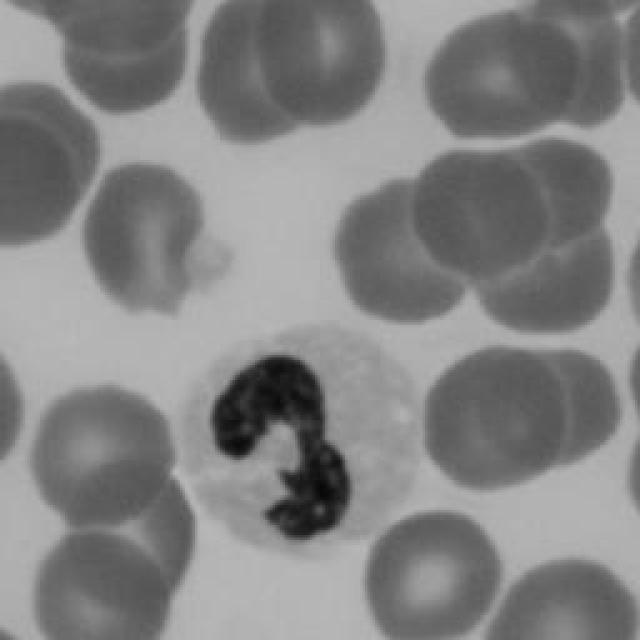RBC: (422, 345, 568, 495), (32, 380, 176, 532), (331, 175, 474, 323), (421, 10, 579, 142), (195, 0, 323, 150), (82, 165, 206, 317), (70, 462, 192, 610), (478, 204, 614, 334), (365, 510, 500, 640), (412, 152, 548, 280), (484, 350, 621, 472), (257, 0, 385, 125), (32, 532, 172, 640), (481, 141, 614, 251), (485, 555, 640, 640), (62, 14, 190, 116), (525, 0, 625, 128), (0, 85, 100, 207), (0, 115, 78, 247), (48, 0, 192, 60), (0, 349, 25, 466)
WBC: (181, 324, 424, 558)
